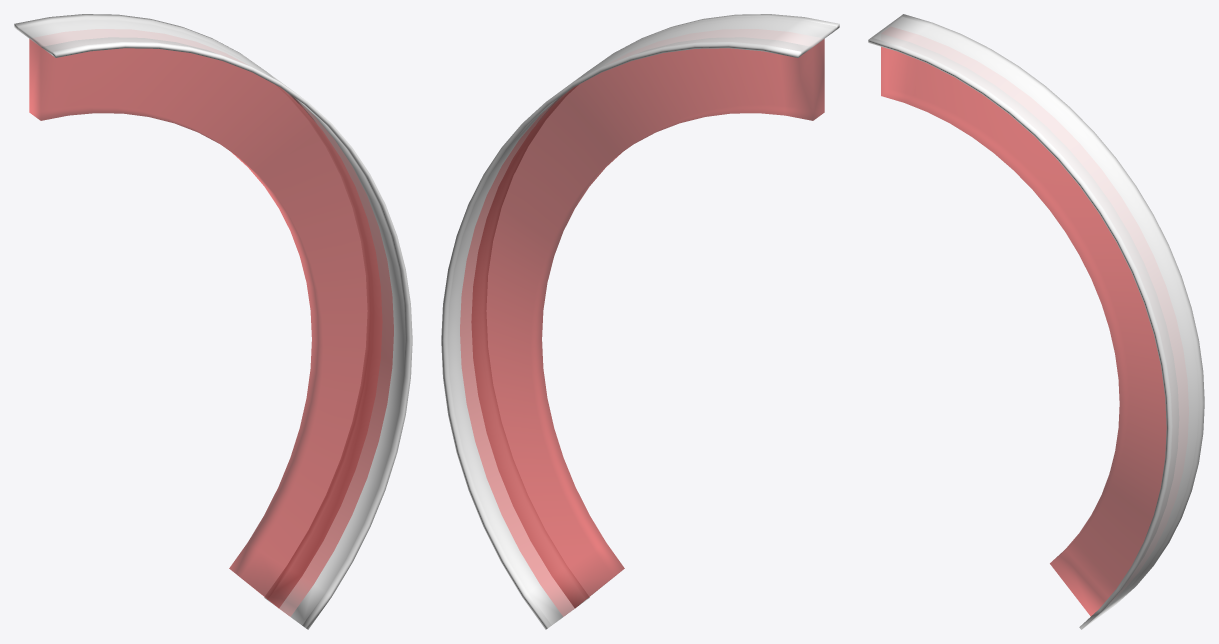
File: FlickNote06.fbx
The picture shows the model from 3 angles, left to right: view 1: azimuth 30°, elevation 25°; view 2: azimuth 150°, elevation 25°; view 3: azimuth 330°, elevation 25°; orthographic projection. The views are drawn at different scales.
Visible parts, largest first — view 1: FlickNote06; view 2: FlickNote06; view 3: FlickNote06.
Boxes of the visible parts, x1,y1,x2,y2 form: FlickNote06: [14, 14, 412, 629]; FlickNote06: [441, 14, 839, 629]; FlickNote06: [868, 14, 1204, 629].
Size of the model in its own units: 99.05 by 20 by 169.
